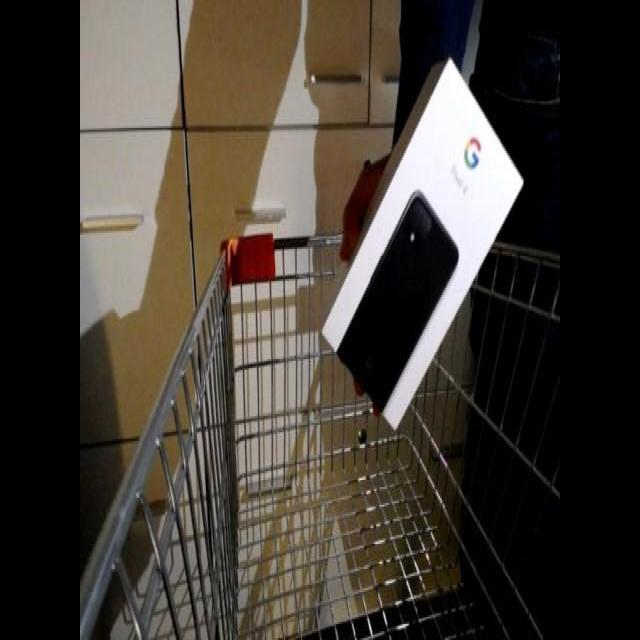Pixel 4: (309, 42, 561, 449)
